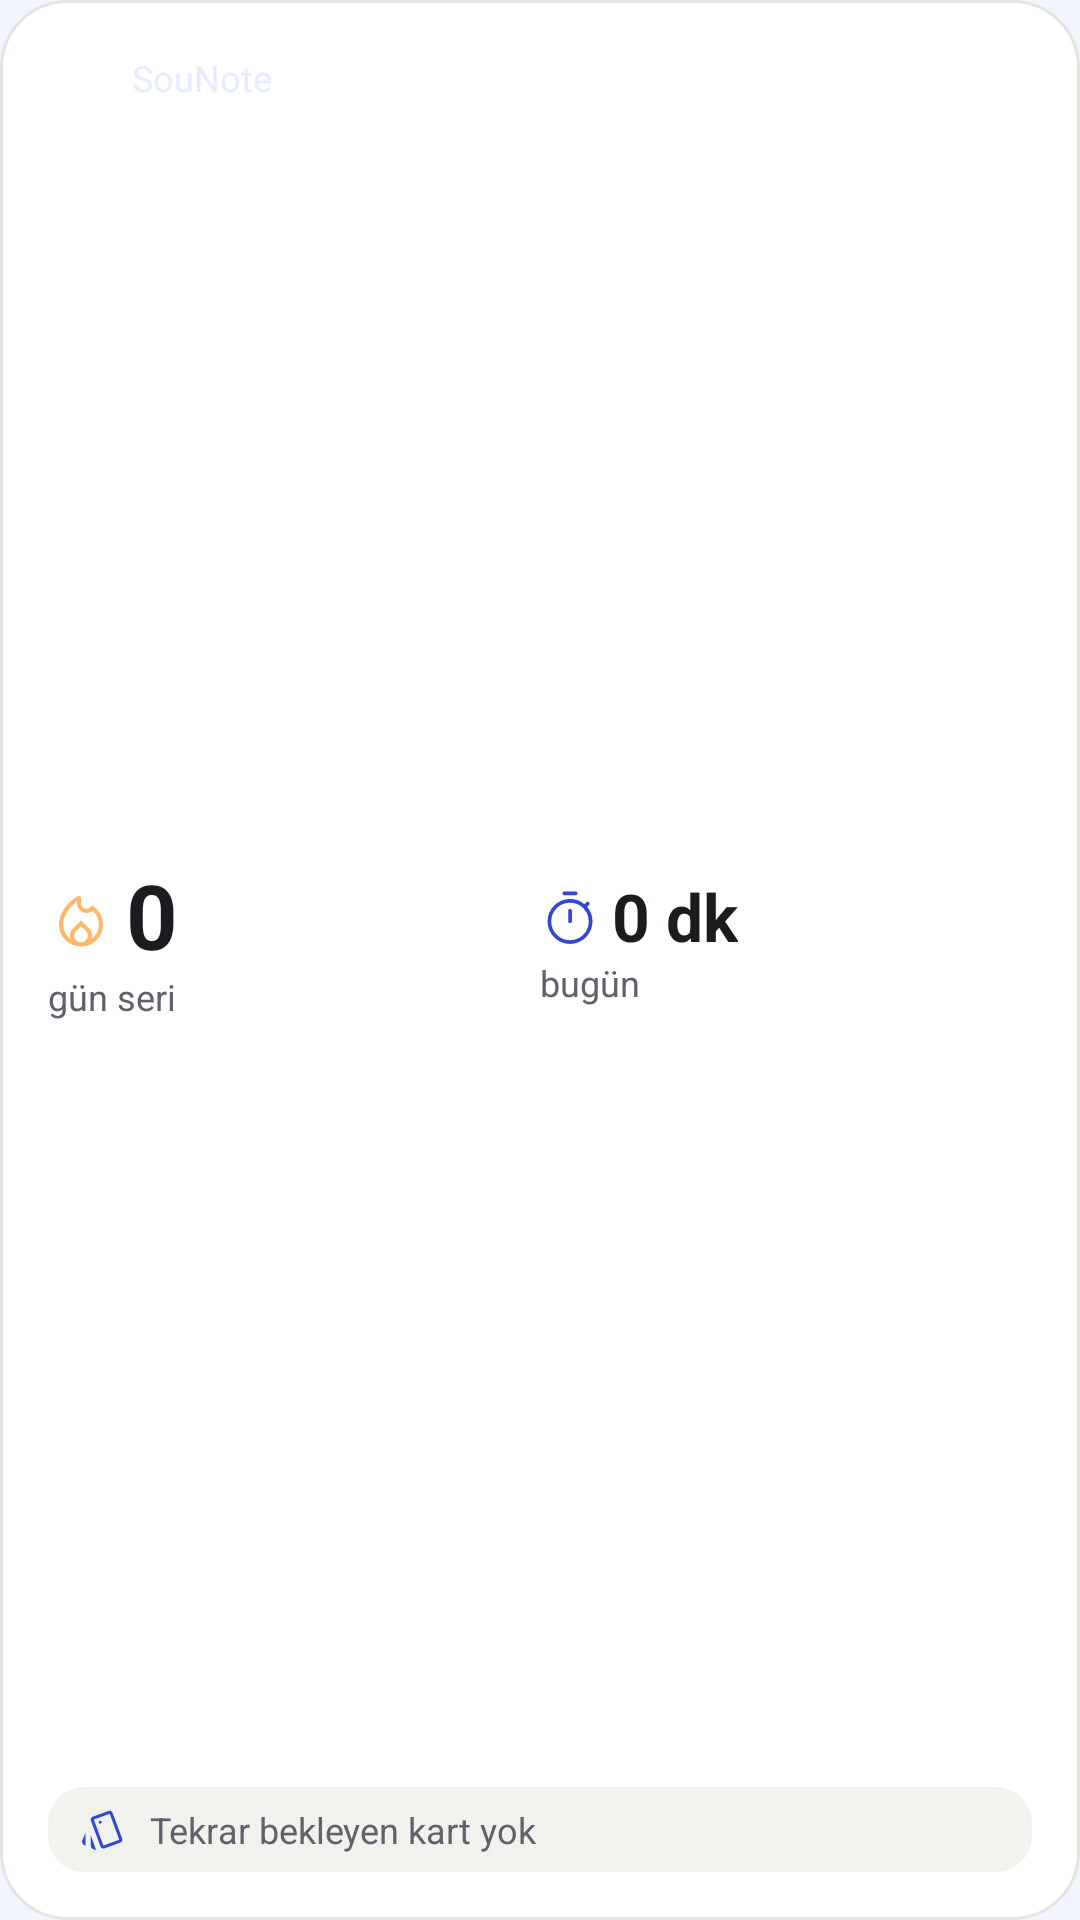

Where icons sit on this 1080x1920 app screen, as BBox(x1, y1, x2, y2):
cards: BBox(82, 1810, 123, 1850)
fire: BBox(59, 896, 103, 947)
timer: BBox(547, 891, 593, 944)
